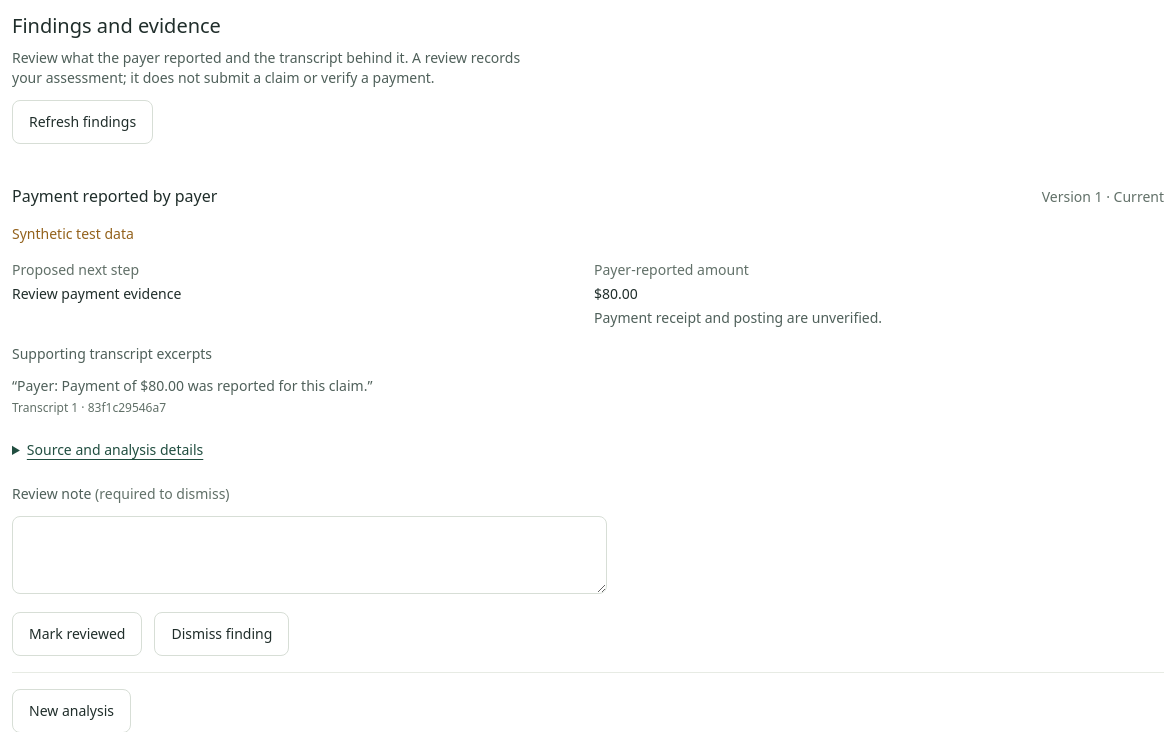
Test: Versioned claim observations › separates payer-reported money from verified payment and shows exact source evidence
expect the heading "Payment reported by payer" is shown: met, box [12,184,217,208]
expect the text "Synthetic test data" is shown: met, box [12,224,134,243]
Click the heading "Source and analysis details" at {"x": 115, "y": 450}, box [27,440,203,459]
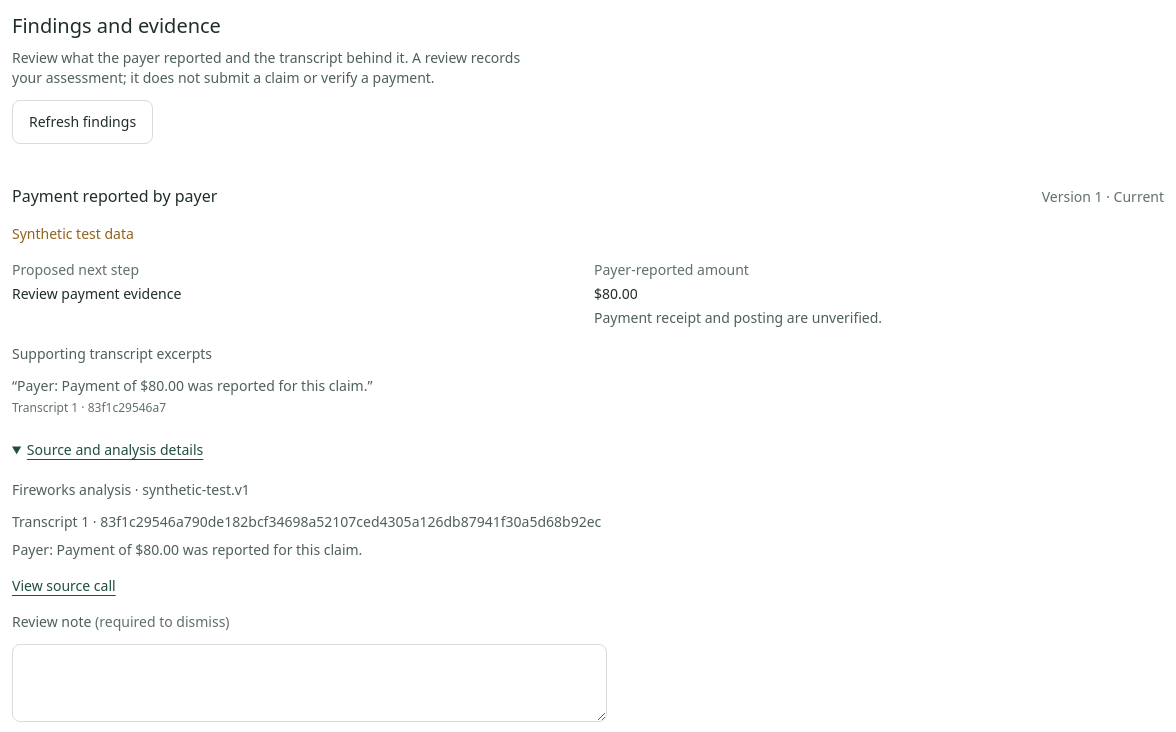
expect the text "83f1c29546a790de182bcf34698a52107ced4305a126db87941f30a5d68b92ec" is shown: met, box [100,512,601,531]
